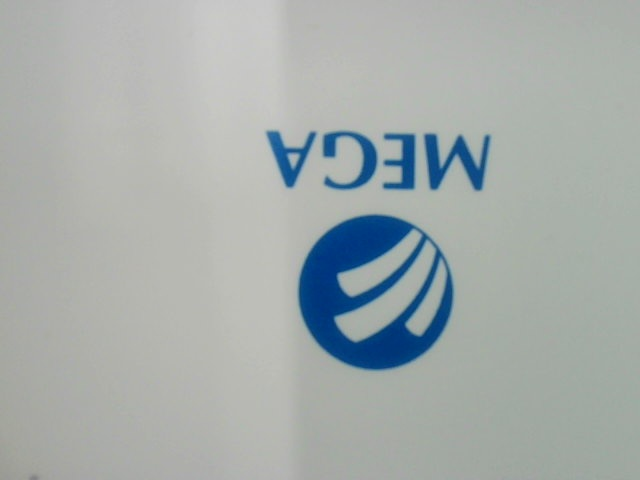AM_ZTEMEGA: (255, 123, 515, 377)
